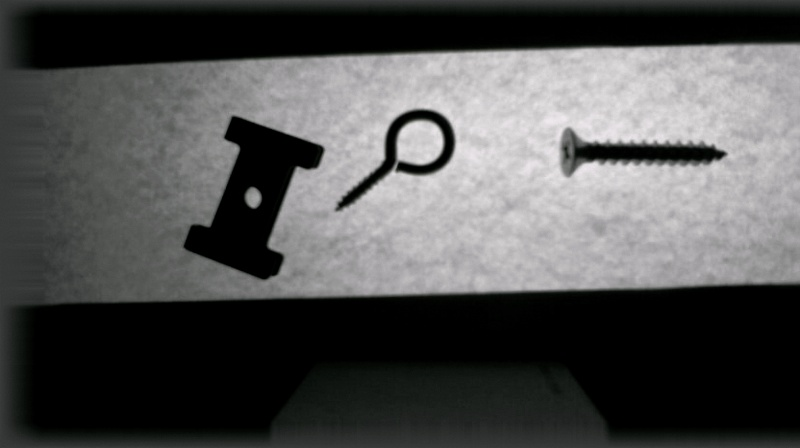O001: (332, 105, 454, 217)
O002: (181, 114, 325, 276)
S001: (549, 124, 731, 177)
